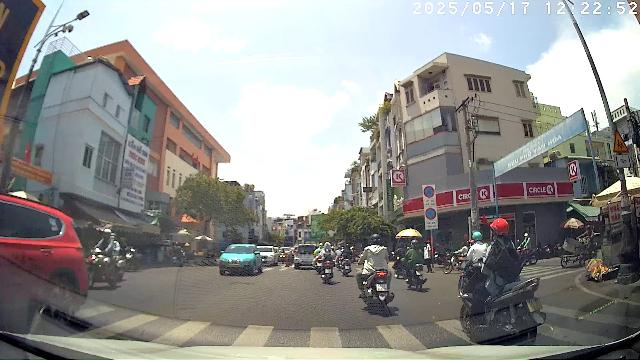130-cam-dung-va-do-xe: (424, 186, 435, 198)
131a-cam-do-xe: (425, 207, 437, 220)
